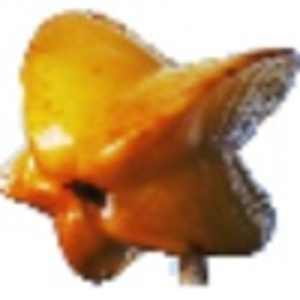carambola: (1, 8, 300, 288)
